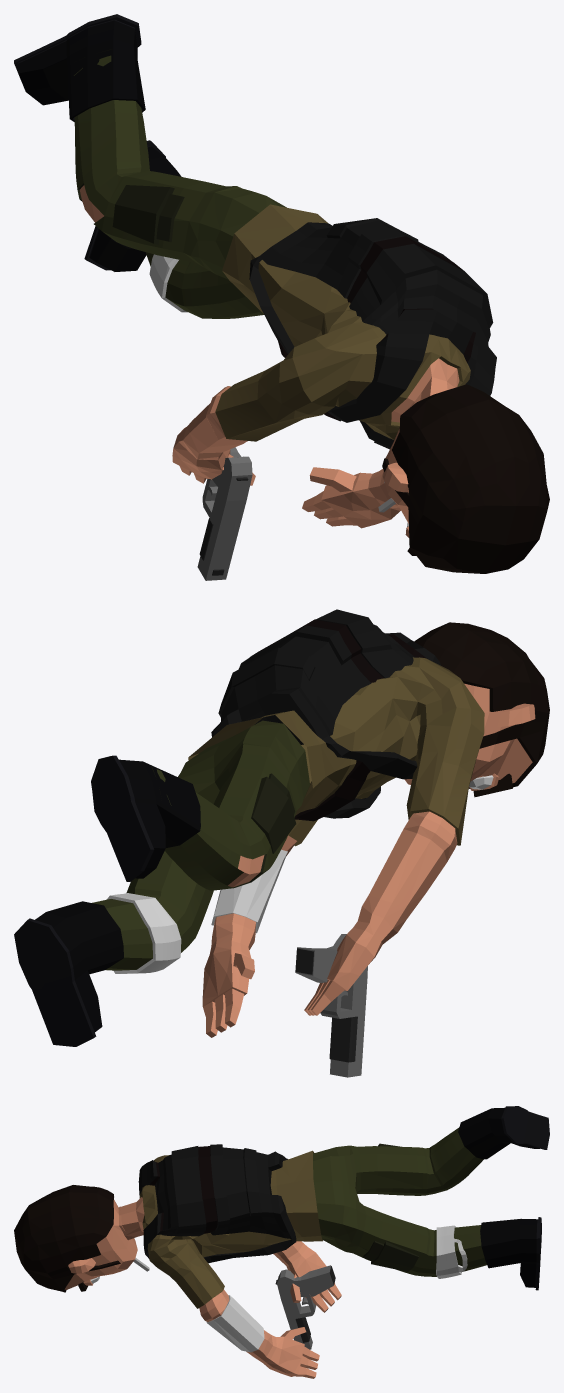
The model's file is frame_0067.obj.
The picture shows the model from 3 angles, top to bottom: view 1: azimuth 30°, elevation 25°; view 2: azimuth 150°, elevation 25°; view 3: azimuth 270°, elevation 25°; orthographic projection. The views are drawn at different scales.
Visible parts, largest first — view 1: Body, Gun; view 2: Body, Gun; view 3: Body, Gun.
Boxes of the visible parts, x1,y1,x2,y2 form: Body: [14, 14, 549, 573]; Gun: [197, 447, 252, 580]; Body: [14, 609, 549, 1046]; Gun: [295, 934, 367, 1077]; Body: [14, 1106, 549, 1378]; Gun: [275, 1265, 335, 1349].
Size of the model in its own units: 1.31 by 2.25 by 4.15.
